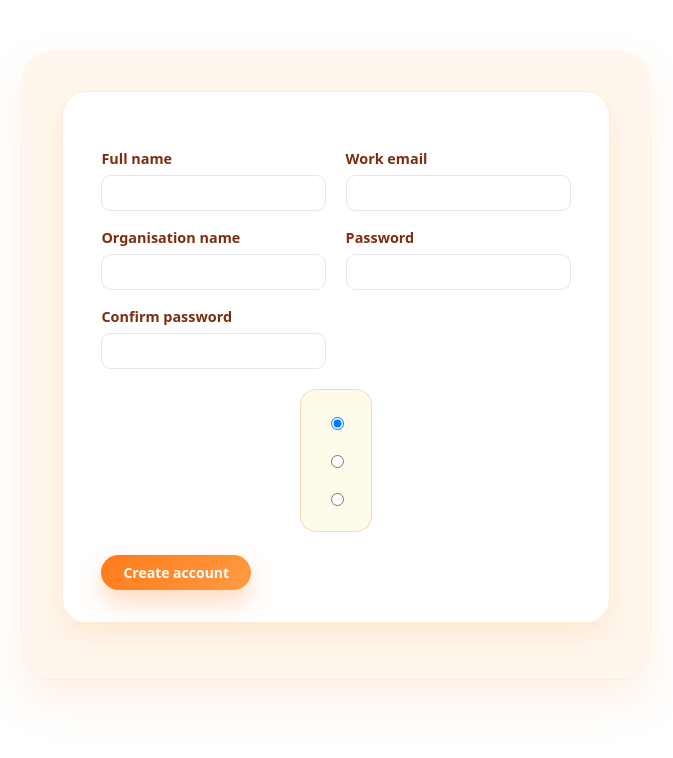
Test: initRegister – validation & submit › shows error when passwords do not match
In the field with id "fullName": {"x": 214, "y": 193} 101,174 -> 326,211, type "John Doe"
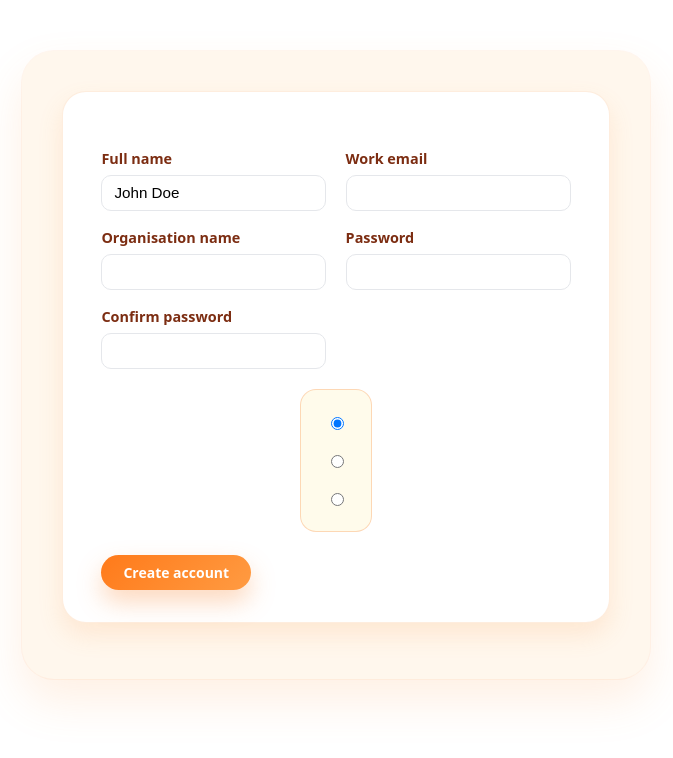
In the field with id "email": {"x": 458, "y": 193} 346,174 -> 571,211, type "john@example.com"
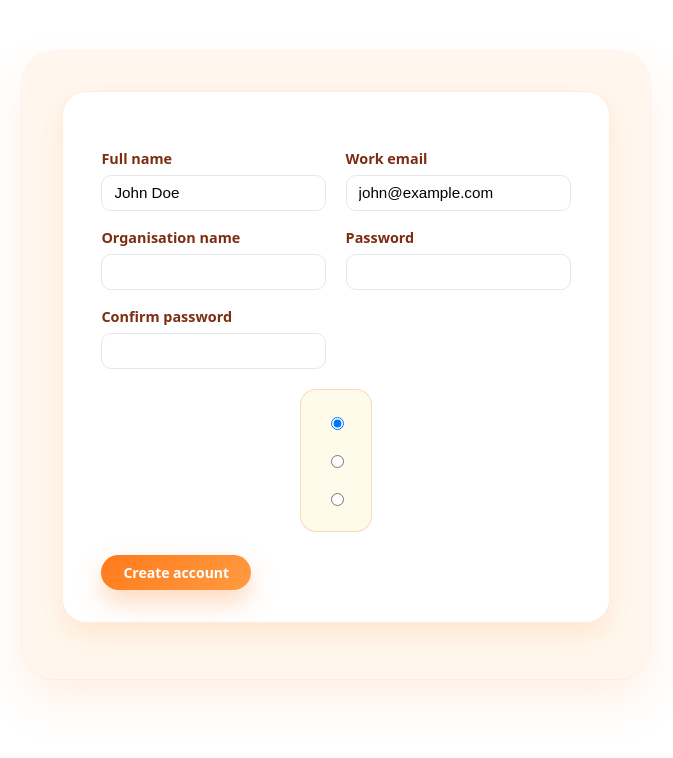
In the field with id "organisation": {"x": 214, "y": 272} 101,254 -> 326,290, type "ACME"
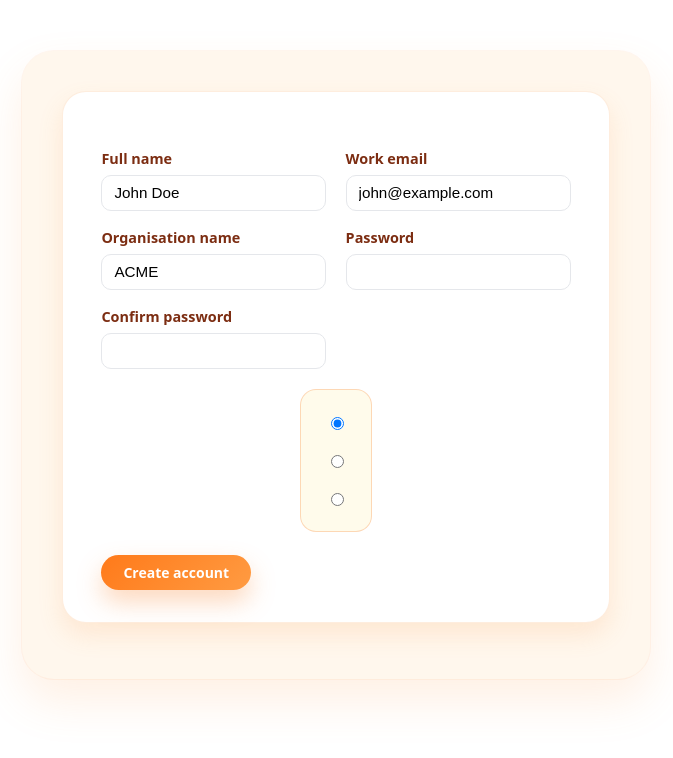
In the password field labelled "Password": {"x": 458, "y": 272} 346,254 -> 571,290, type "verystrong"
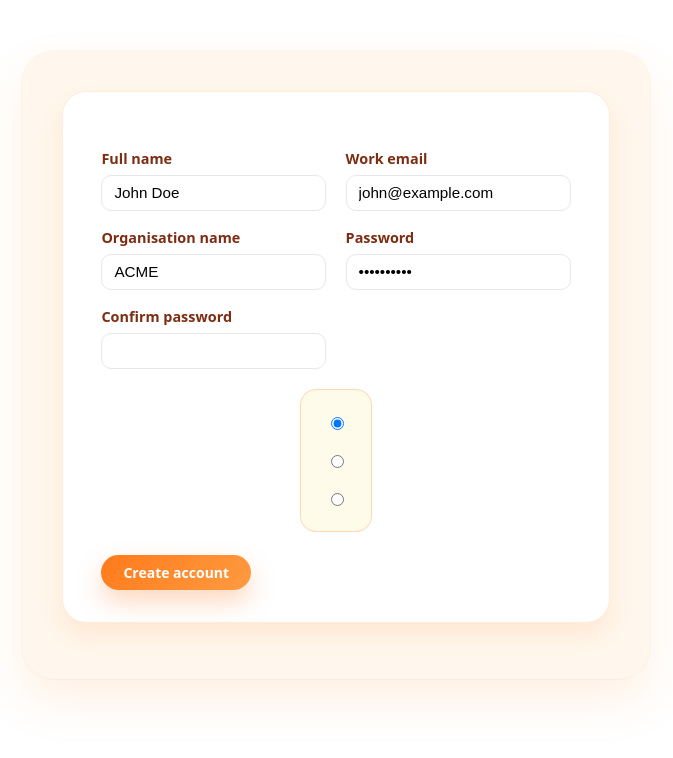
In the password field with id "confirmPassword": {"x": 214, "y": 351} 101,332 -> 326,369, type "different"
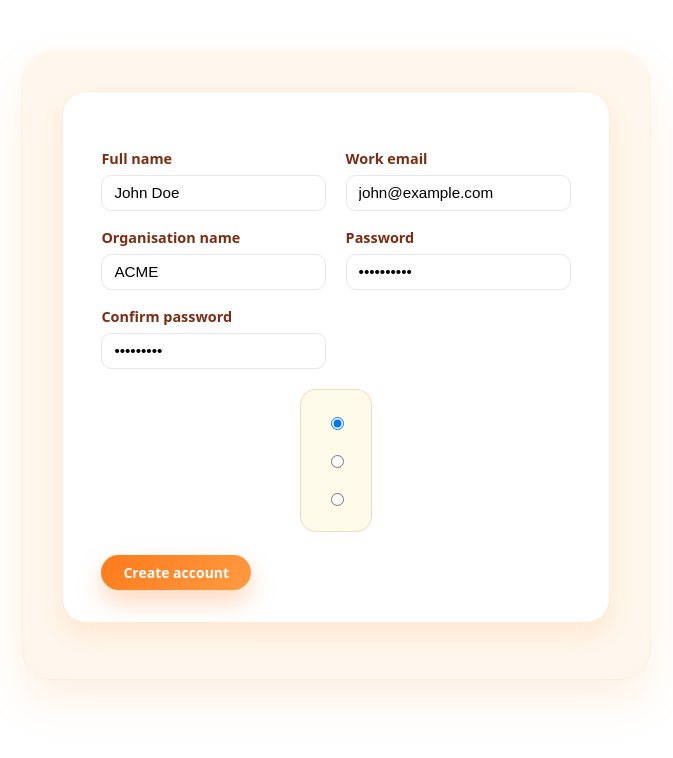
Submit the form with id "register-form", box 101,148 -> 571,590
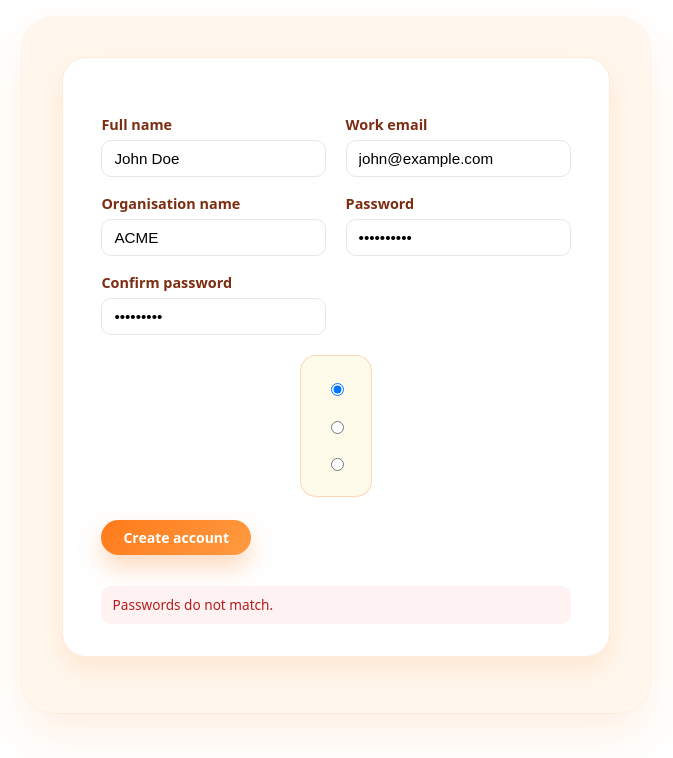
Expected: the text with id "register-error" reads "Passwords do not match.", 113,595 -> 273,614
